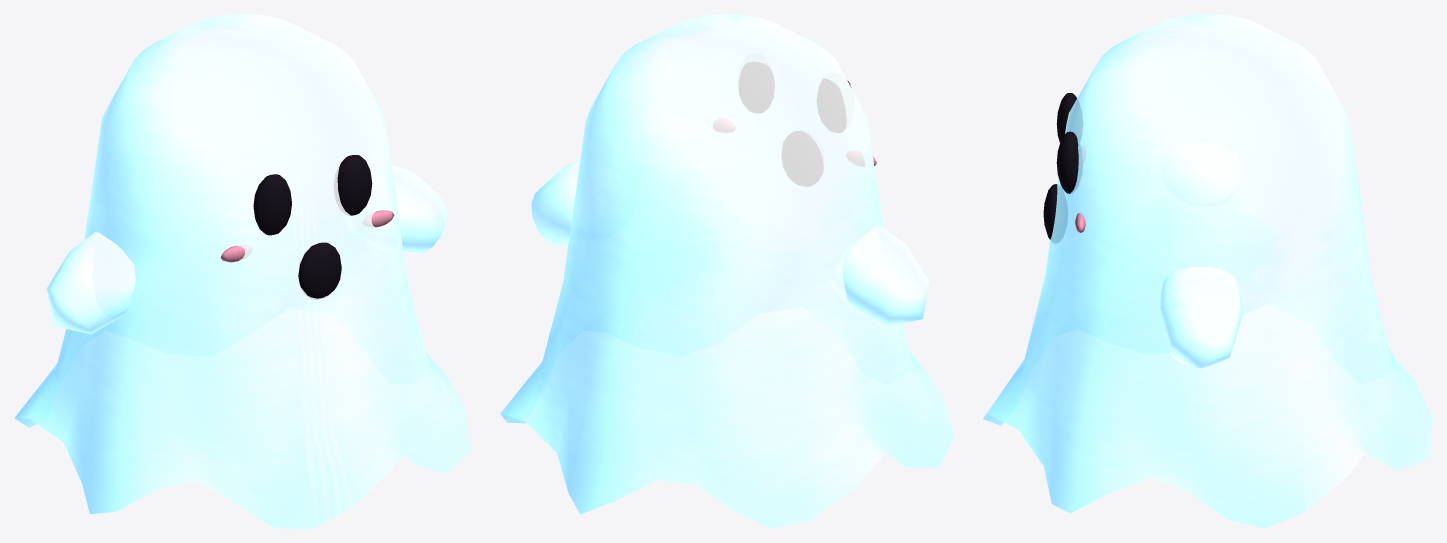
3 views of the same model, side by side, from view 1: azimuth 30°, elevation 25°; view 2: azimuth 150°, elevation 25°; view 3: azimuth 270°, elevation 25° (orthographic).
Visible parts, largest first — view 1: Body, ArmR, ArmL; view 2: Body, ArmR, ArmL; view 3: Body, ArmL.
Part boxes in pixels (<box>): Body: <box>14,14,471,528</box>; ArmR: <box>46,232,148,334</box>; ArmL: <box>345,165,447,253</box>; Body: <box>500,14,954,528</box>; ArmR: <box>828,225,929,327</box>; ArmL: <box>531,161,632,247</box>; Body: <box>983,14,1432,528</box>; ArmL: <box>1158,267,1243,368</box>.
Size of the model in its own units: 1.26 by 1.29 by 1.27.
2 materials, 1 textured.
